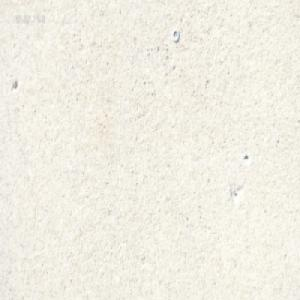Washer: (171, 28, 179, 42)
